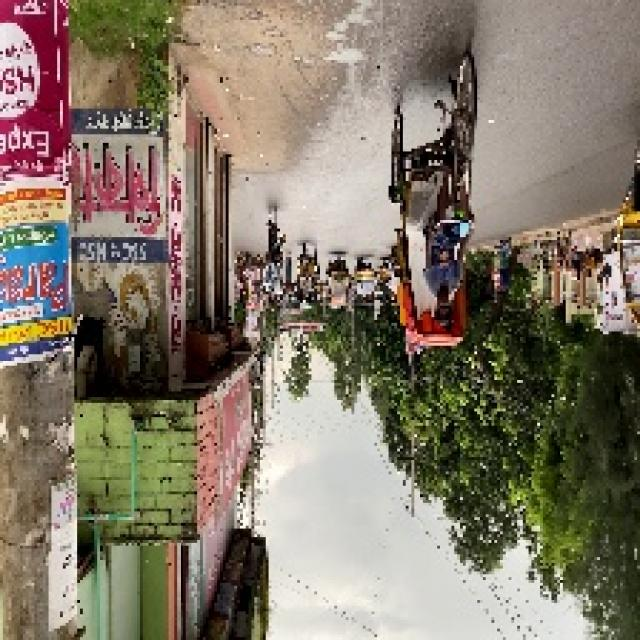rickshaw: (379, 61, 492, 351), (295, 240, 320, 308), (325, 249, 350, 309), (353, 252, 375, 310)
